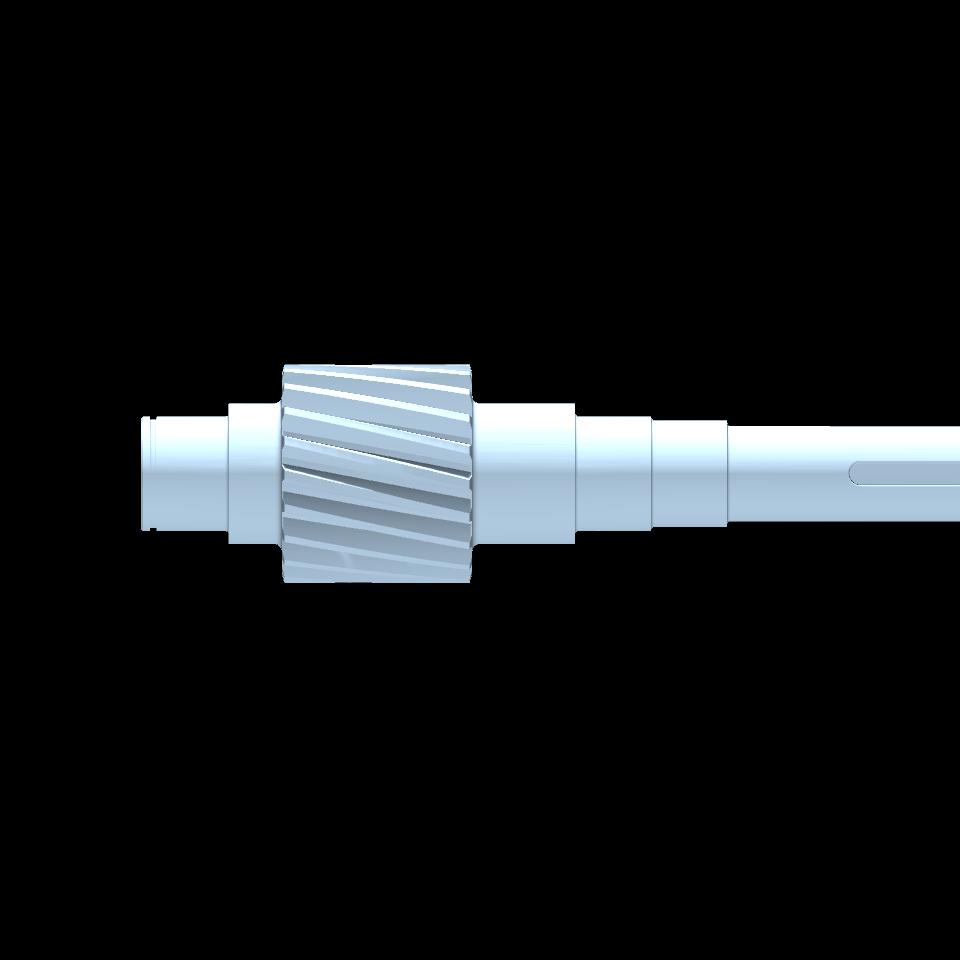Helical: (285, 364, 469, 582)
